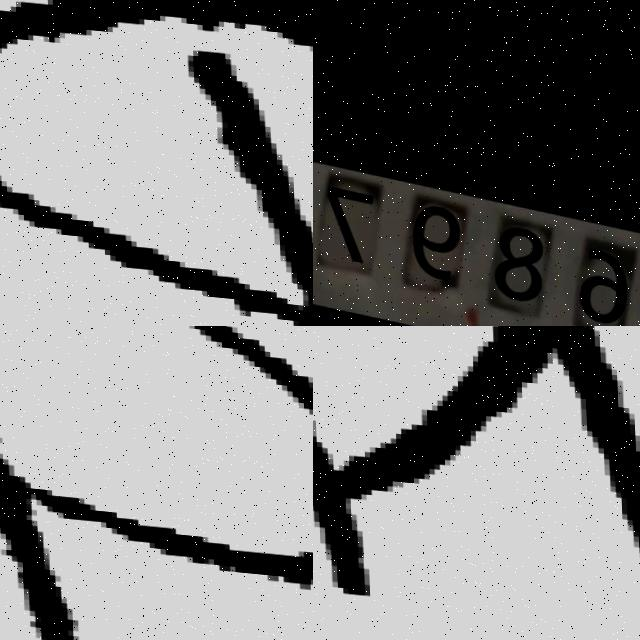6: (567, 228, 637, 326)
7: (314, 172, 383, 270)
8: (484, 208, 553, 305)
9: (401, 188, 469, 287)
G: (0, 326, 313, 640)
N: (313, 326, 640, 627)
P: (0, 0, 313, 326)
